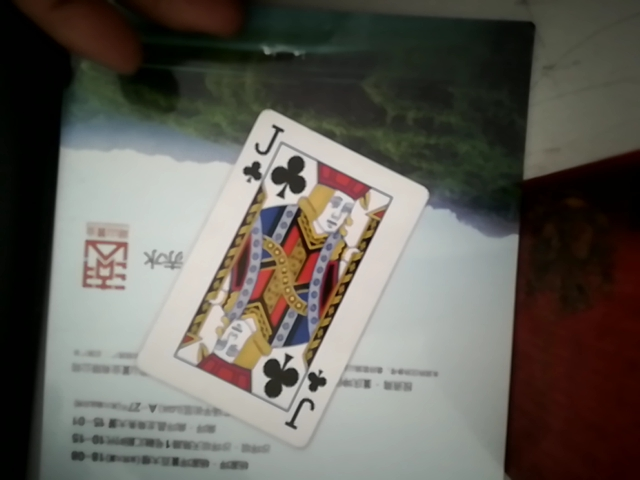mh j: (147, 111, 432, 441)
